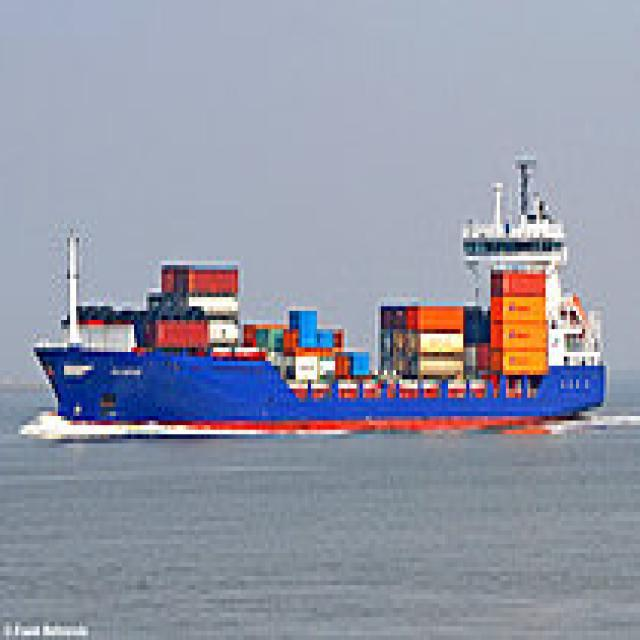Ship: (22, 147, 620, 454)
